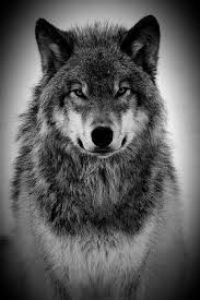wolf: (13, 6, 187, 268)
